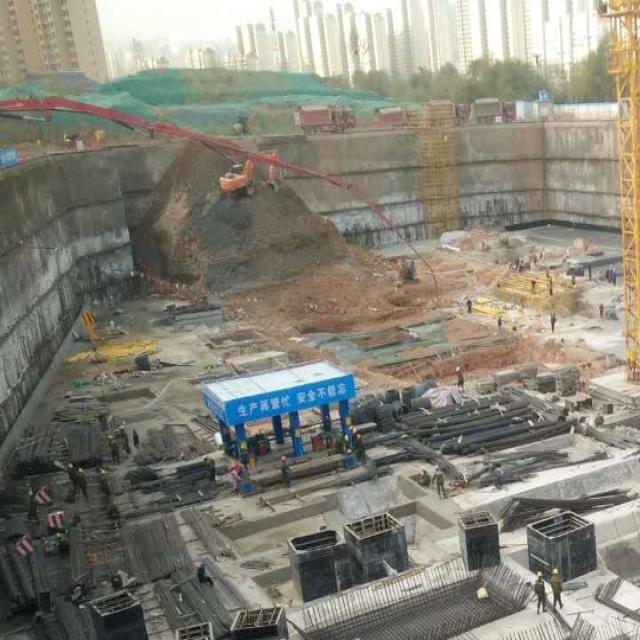crane: (606, 0, 639, 384)
excavator: (220, 149, 280, 198)
truck: (0, 96, 434, 273), (294, 103, 356, 134), (421, 99, 470, 125), (473, 99, 516, 124), (373, 105, 415, 127)
